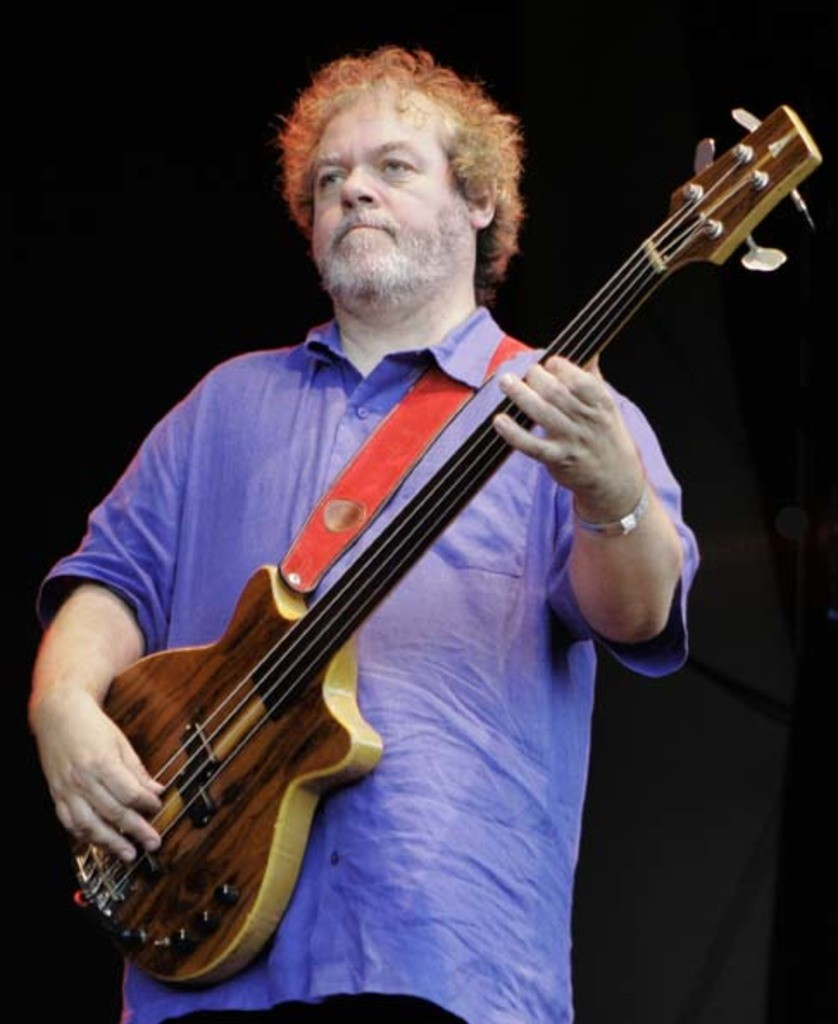guitar: (67, 103, 824, 990)
